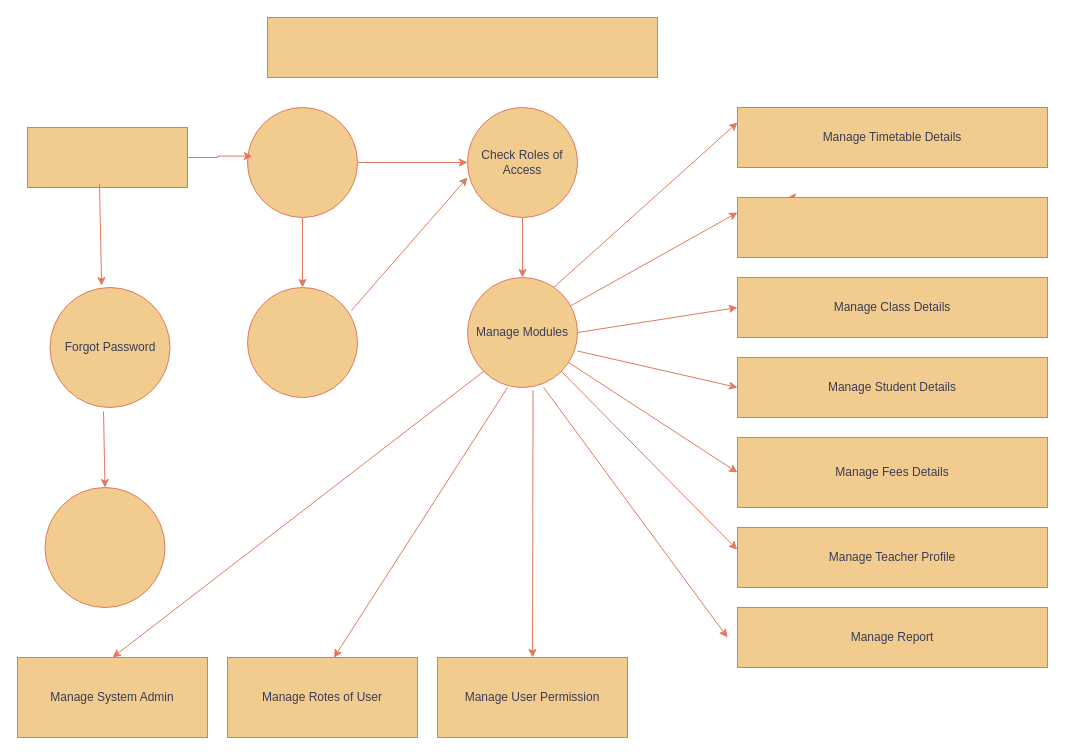
Image size: 1065x755. Some labels were removed from this diagram. Each missing label, with the centre of its shape:
"Admin" belongs at (107,157).
"Check Credentials" belongs at (302,342).
"Login to System" belongs at (302,162).
"Manage Attendence Details" belongs at (892,227).
"Send Email to User" belongs at (104,547).
"Student Information System" belongs at (462,47).
